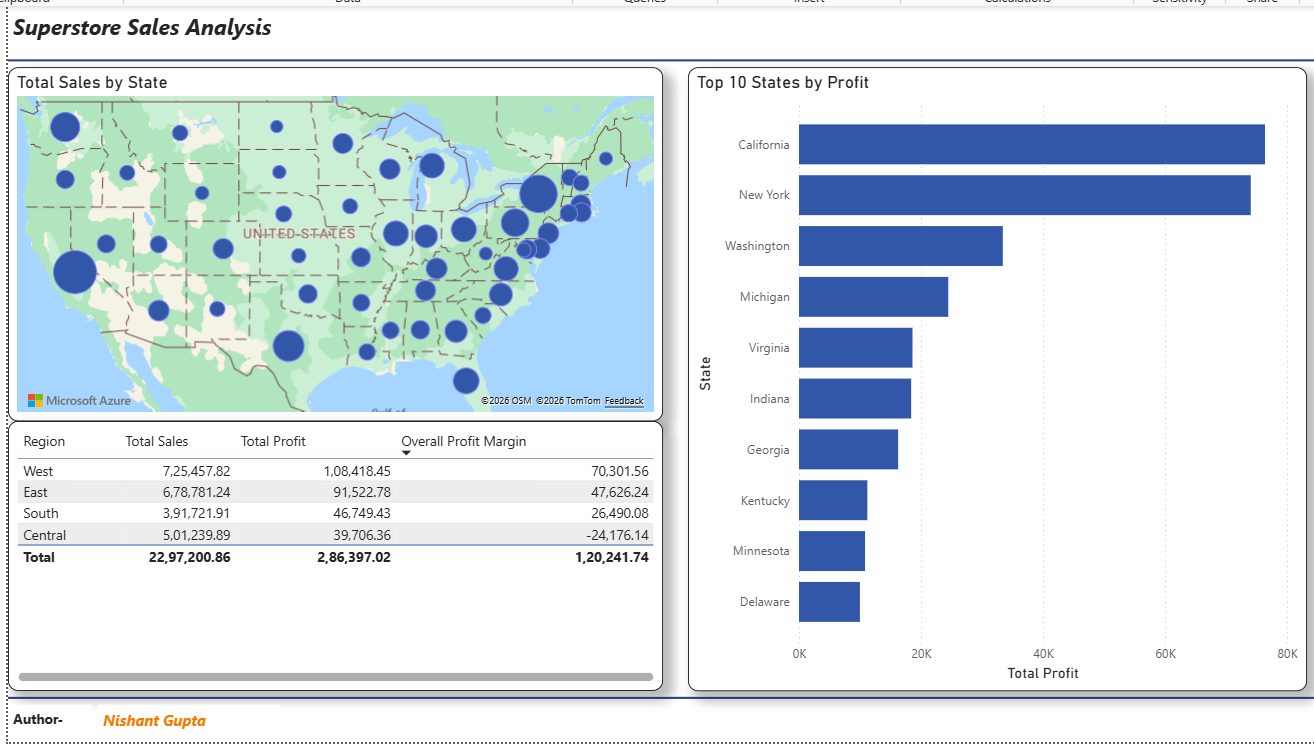

The page's visual inventory and layout, read from the dashboard file:
{"tool":"powerbi","page":{"name":"Geographic Analysis","canvas":[1280,720],"ordinal":2},"visuals":[{"type":"shape","box":[0,46.5,1280.3,13.5],"z":0},{"type":"shape","box":[0,670.1,1280.3,13.5],"z":1000},{"type":"azureMap","fields":{"Size":["KPI.Total Sales"],"Category":["superstore_clean.State"]},"box":[0,59.9,640.8,346.1],"z":2000},{"type":"barChart","title":"Top 10 States by Profit","fields":{"Y":["KPI.Total Profit"],"Category":["superstore_clean.State"]},"box":[665.2,59.9,605.3,610.2],"z":3000},{"type":"tableEx","fields":{"Values":["superstore_clean.Region","KPI.Total Sales","KPI.Total Profit","KPI.Overall Profit Margin"]},"box":[0,406,640.8,264.1],"z":4000},{"type":"textbox","box":[0,0,299.6,46.5],"z":4001},{"type":"textbox","box":[88,683.3,177.3,36.7],"z":4002},{"type":"textbox","box":[0,683.3,81.9,36.7],"z":4003}]}

Visuals, with their boxes on the page's 1280x720 design canvas (x1, y1, x2, y2). These are canvas units, not pixel positions in the 1314x745 screenshot, which may show the page scaled, cropped or inside an application window:
shape: rect(0, 46, 1280, 60)
shape: rect(0, 670, 1280, 684)
azureMap - KPI.Total Sales x superstore_clean.State: rect(0, 60, 641, 406)
"Top 10 States by Profit" barChart: rect(665, 60, 1270, 670)
tableEx - superstore_clean.Region x KPI.Total Sales: rect(0, 406, 641, 670)
textbox: rect(0, 0, 300, 46)
textbox: rect(88, 683, 265, 720)
textbox: rect(0, 683, 82, 720)
